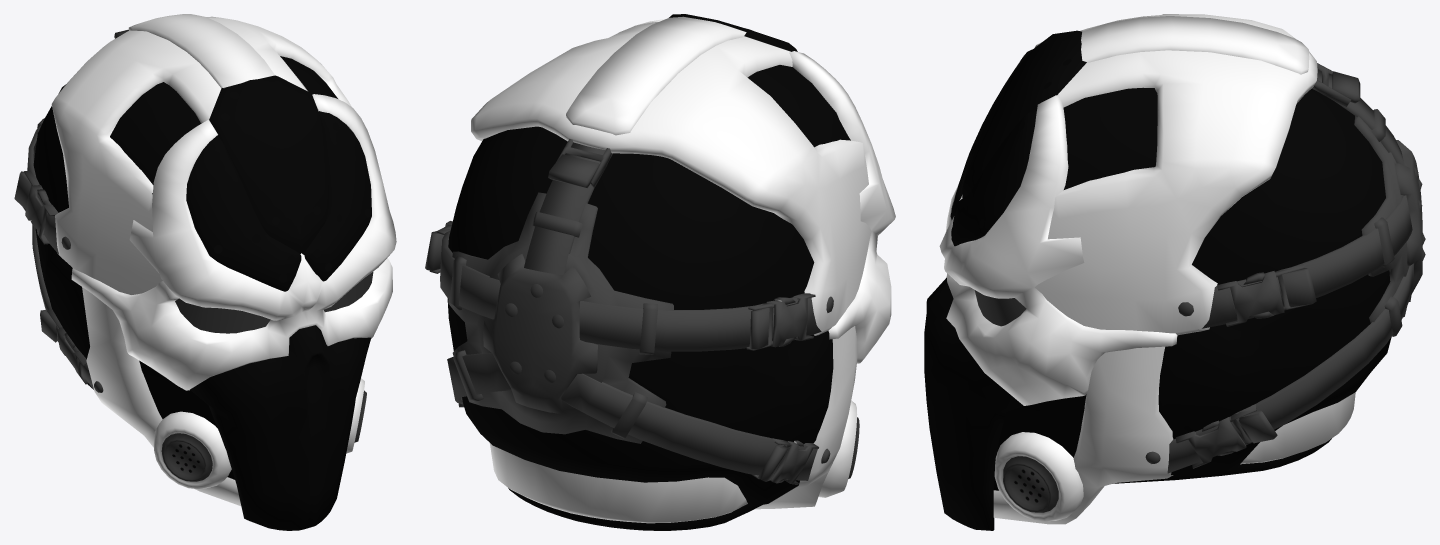
File: SurvivorMale_Head_Helmet_FutureSkull_LOD0.glb
3 views of the same model, side by side, from view 1: azimuth 30°, elevation 25°; view 2: azimuth 150°, elevation 25°; view 3: azimuth 270°, elevation 25° (orthographic). The views are drawn at different scales.
Parts seen in each view (by area): view 1: Hoodie; view 2: Hoodie; view 3: Hoodie.
Part boxes in pixels (bbox=[...]): Hoodie: bbox=[14, 14, 396, 530]; Hoodie: bbox=[425, 14, 895, 530]; Hoodie: bbox=[924, 14, 1425, 530].
Bounding box in the file's own units: 0.2002 × 0.2839 × 0.2634.
1 material, 1 textured.
